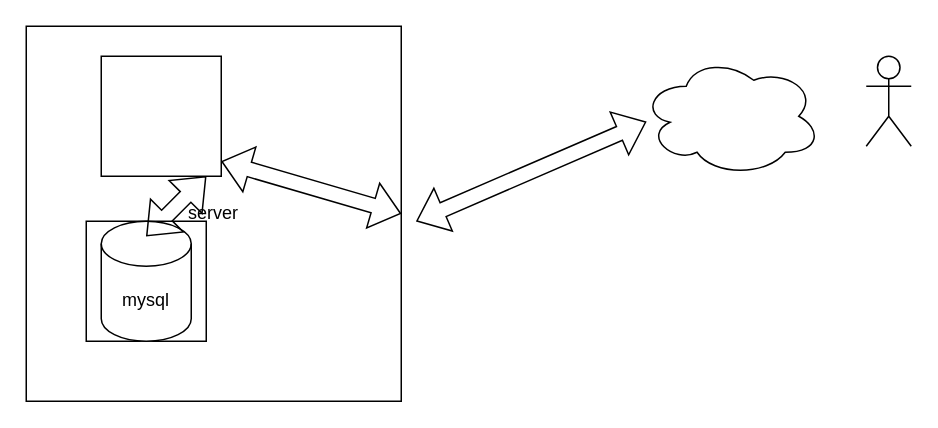
This 938x428 diagram has some shape labels left out. Here are the shapes that lost their labels. From the top down, the centre of each, then its label:
(160,115): docker container
(888,100): Actor
